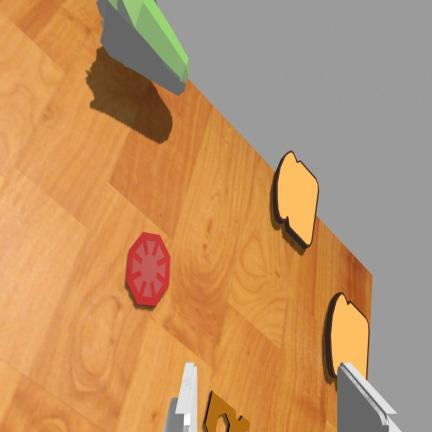cheese: (205, 391, 250, 431)
lettuce: (97, 0, 189, 95)
sliced_bread: (273, 151, 319, 247), (325, 292, 369, 379)
sliced_tomato: (126, 232, 170, 306)
